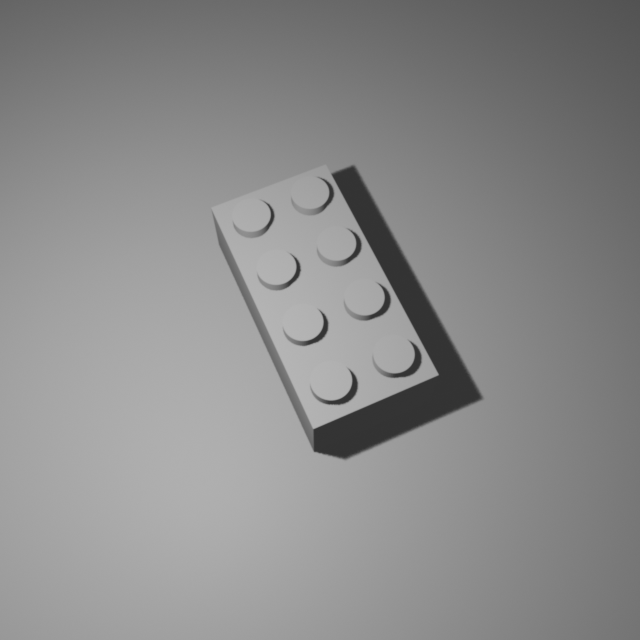lego_2x4: (210, 157, 440, 452)
